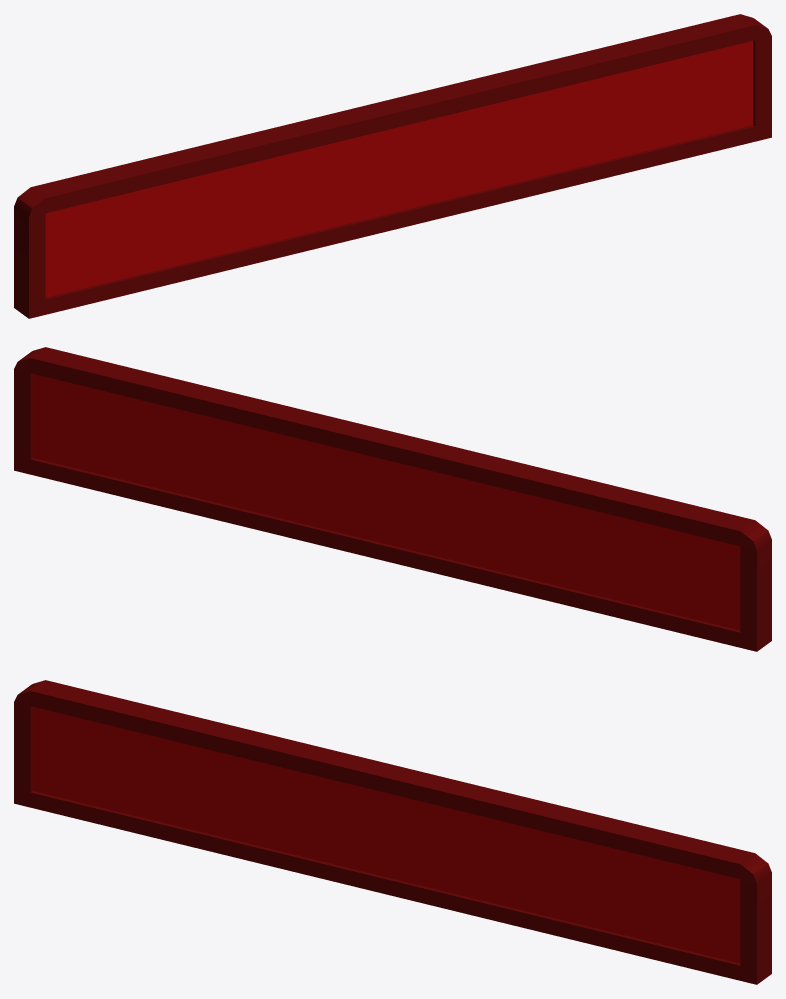
The model's file is Muro 1.fbx.
3 renders of one model, top to bottom at view 1: azimuth 30°, elevation 25°; view 2: azimuth 150°, elevation 25°; view 3: azimuth 330°, elevation 25°, orthographic.
Visible parts, largest first — view 1: pCube9; view 2: pCube9; view 3: pCube9.
Part boxes in pixels (bbox=[...]): pCube9: bbox=[14, 14, 771, 318]; pCube9: bbox=[14, 347, 771, 651]; pCube9: bbox=[14, 680, 771, 984].
Bounding box in the file's own units: 200 × 30 × 7.
